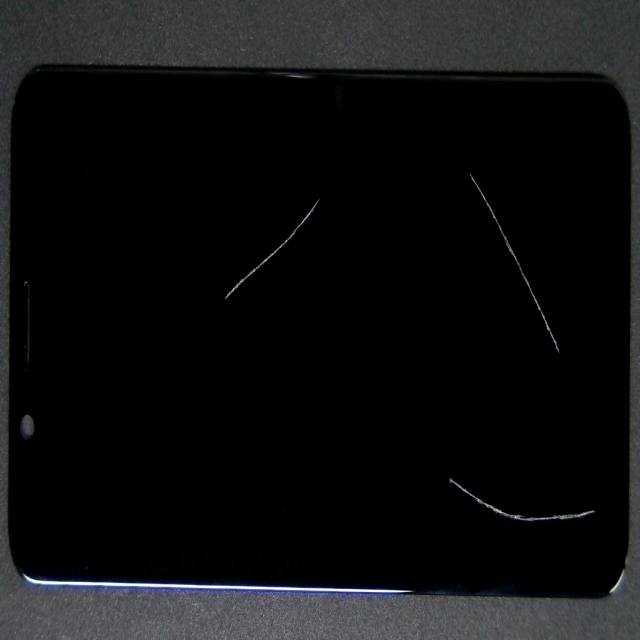scratch: (387, 269, 640, 640), (214, 31, 424, 329), (343, 274, 640, 418)
